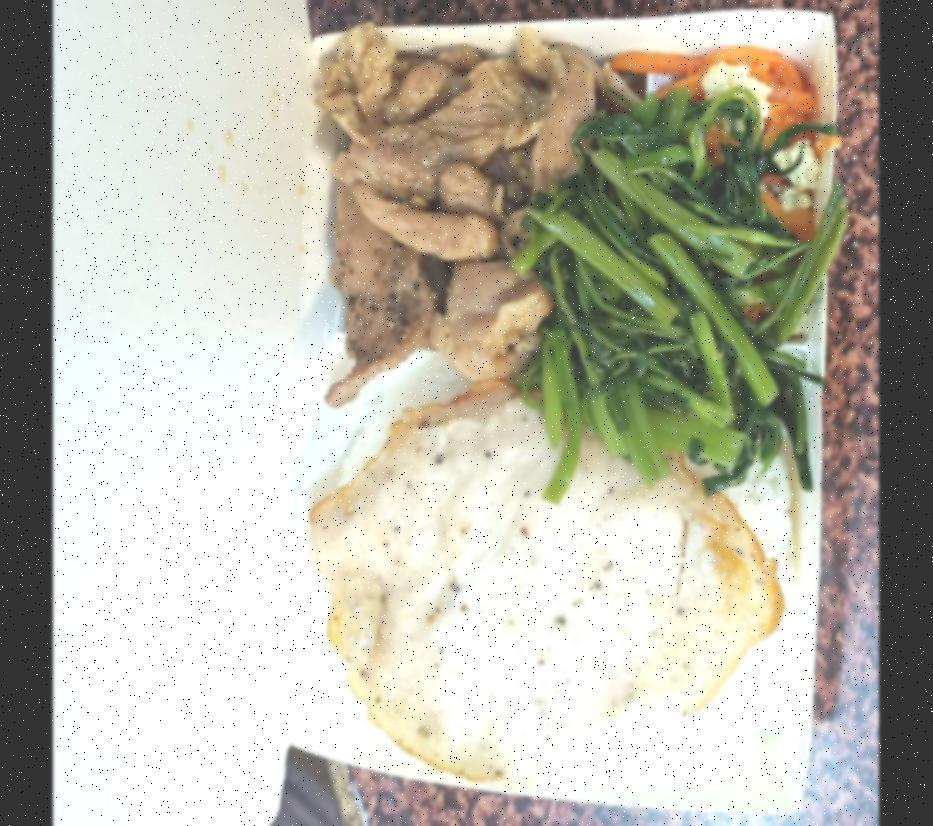box: (300, 0, 854, 799)
grilled chicken steak: (322, 409, 750, 735)
sauteed pork: (316, 36, 568, 361)
side dish: (540, 103, 782, 463), (670, 50, 818, 202)
white rice: (290, 375, 790, 761)
